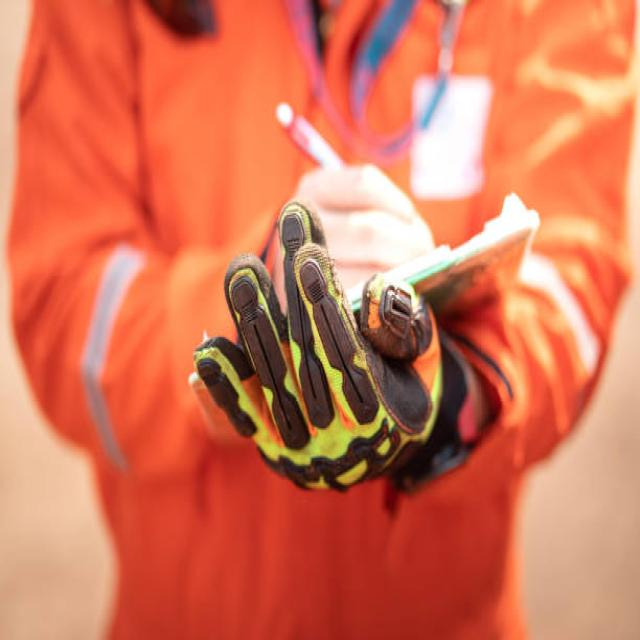Gloves: (192, 196, 448, 501)
